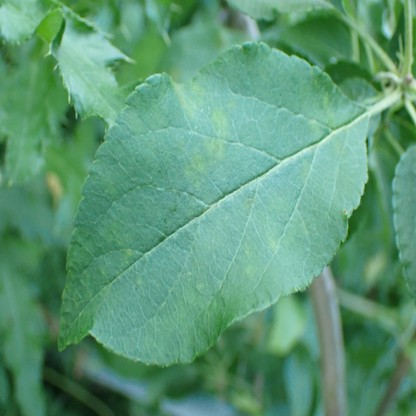scab: (169, 73, 204, 113), (184, 154, 209, 189), (323, 90, 336, 126), (213, 110, 228, 140), (205, 139, 223, 159), (301, 160, 311, 179), (244, 194, 254, 213), (243, 243, 254, 259), (269, 236, 276, 250), (248, 263, 254, 277)
